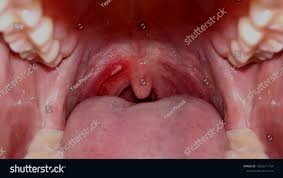Ulcer: (109, 64, 123, 74)
